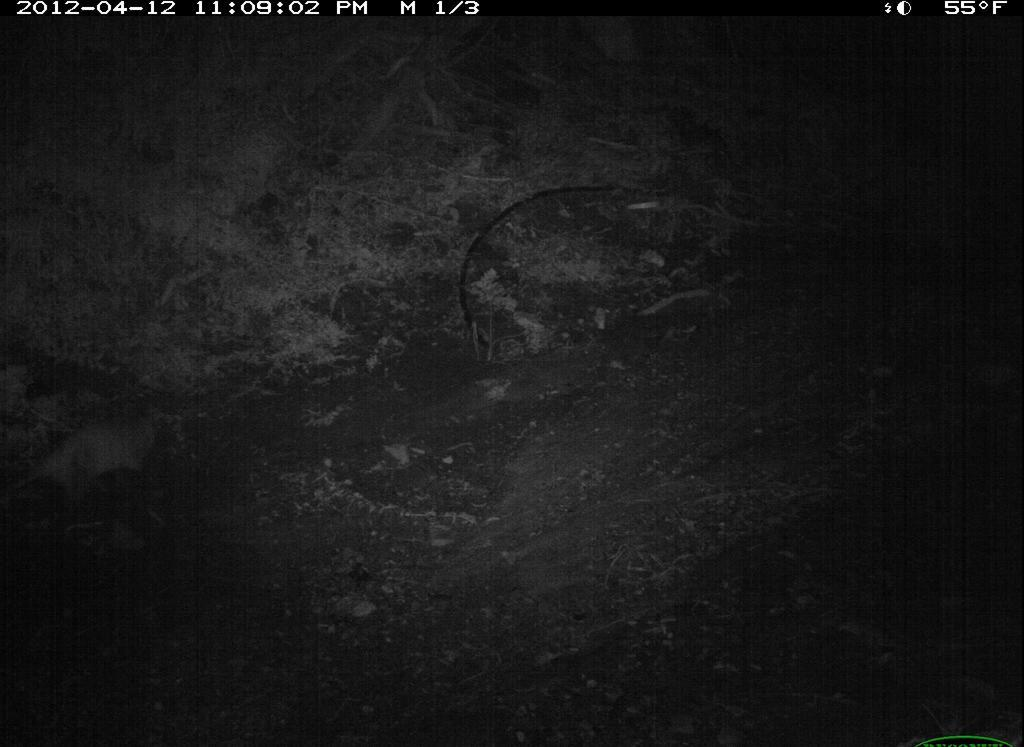opossum: (2, 392, 177, 519)
